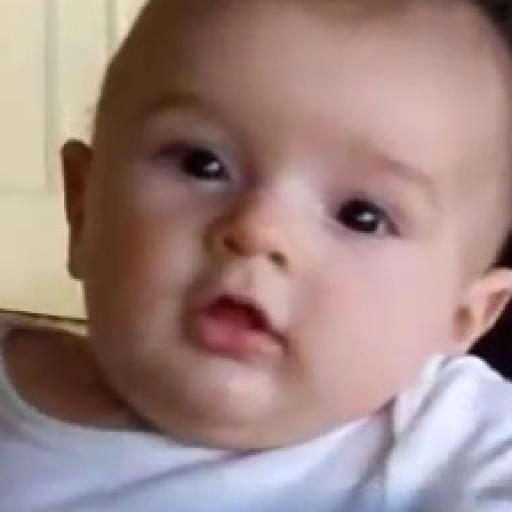Autism: (86, 2, 512, 502)
